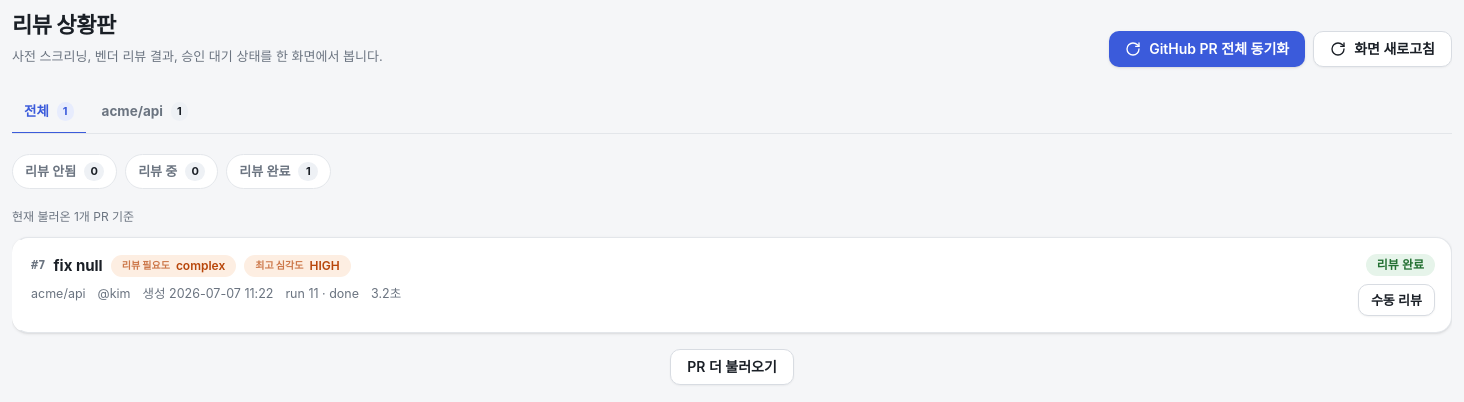
Test: expired overview cursor rebuilds the window from the first page
Click the button "PR 더 불러오기": [732, 367] box [670,349,794,385]
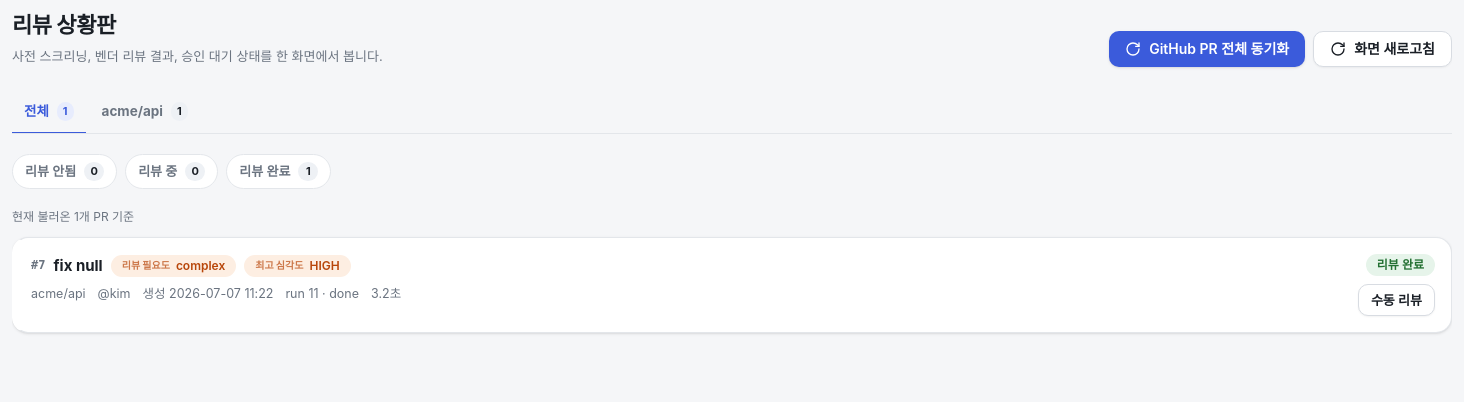
Expected: the link "fix null" is shown, [54,254,103,278]
Now the button "PR 더 불러오기" is gone
